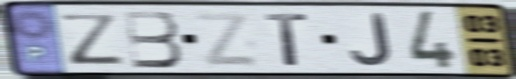4: (407, 8, 461, 72)
B: (121, 9, 186, 70)
J: (348, 12, 395, 68)
T: (262, 11, 311, 68)
Z: (191, 11, 262, 69), (56, 12, 127, 66)
